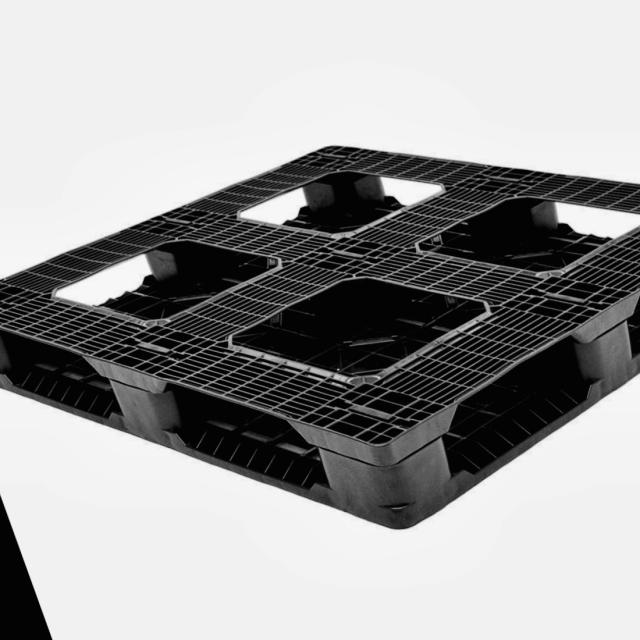non-igps: (0, 137, 640, 537)
